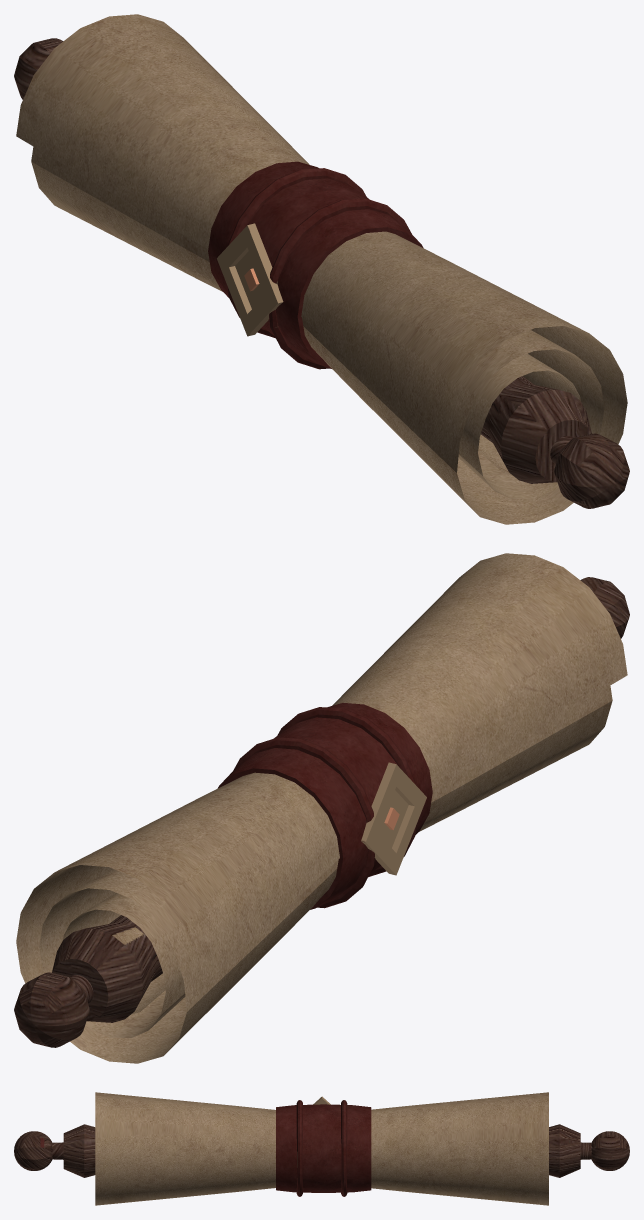
Rendered from fantasy_scroll.glb.
3 views of the same model, one above another, from view 1: azimuth 30°, elevation 25°; view 2: azimuth 150°, elevation 25°; view 3: azimuth 270°, elevation 25° (orthographic). The views are drawn at different scales.
Parts seen in each view (by area): view 1: Object_2; view 2: Object_2; view 3: Object_2.
Boxes of the visible parts, bbox=[...] form: Object_2: bbox=[14, 14, 629, 524]; Object_2: bbox=[14, 553, 629, 1063]; Object_2: bbox=[14, 1092, 629, 1205].
Bounding box in the file's own units: 2.47 × 2.47 × 13.31.
Materials: 1 (1 with a texture image).
